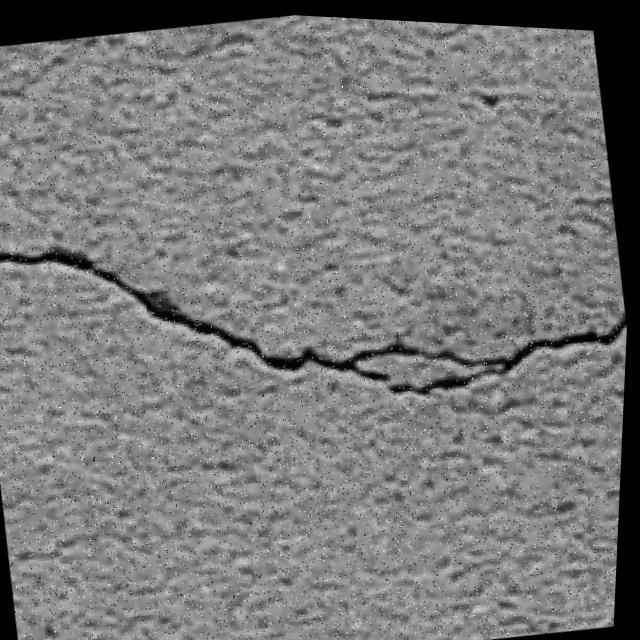Crack: (0, 142, 635, 472)
